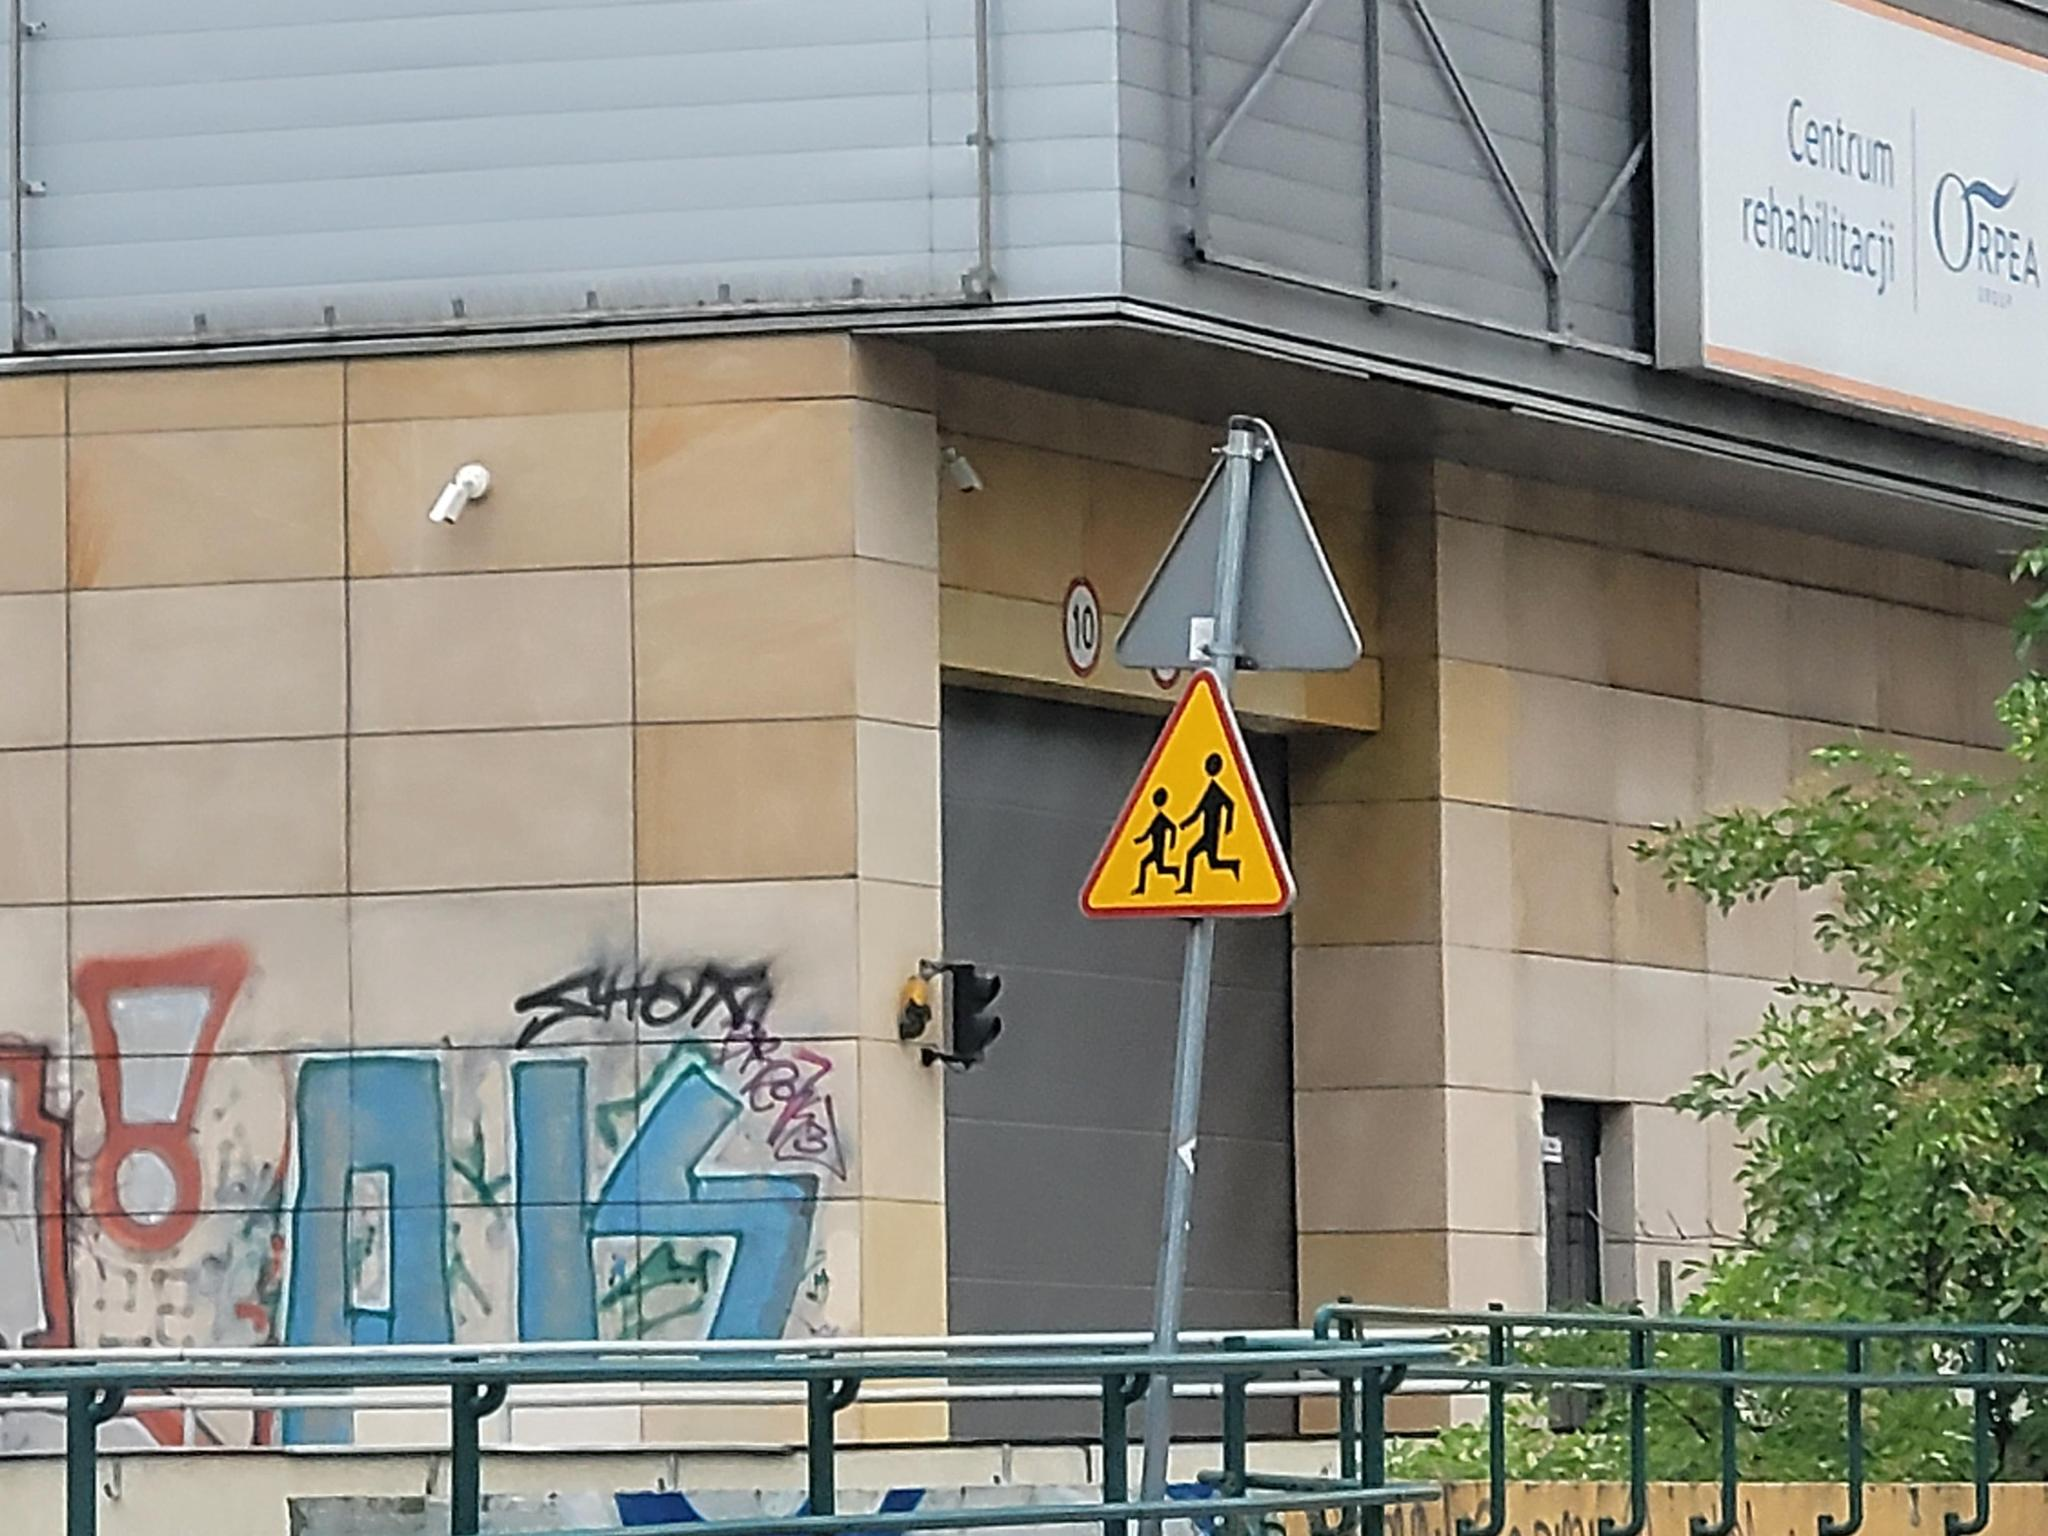prohibitory: (1061, 573, 1101, 676)
warning: (1077, 670, 1300, 921)
